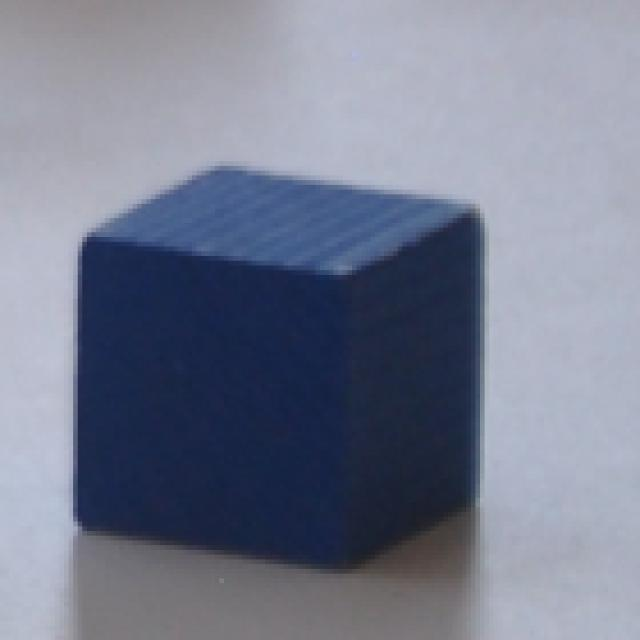bluecube: (78, 165, 475, 568)
